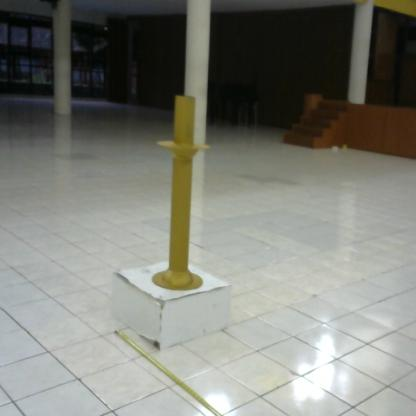pole: (150, 93, 213, 294)
